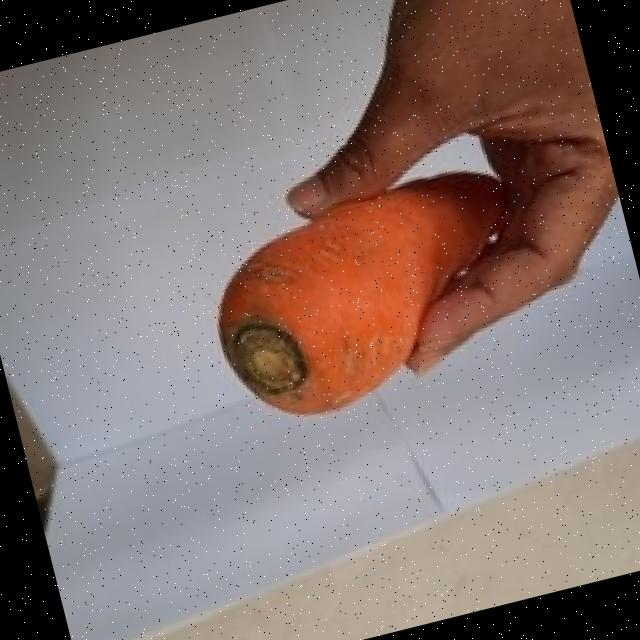carrot: (224, 177, 508, 416)
